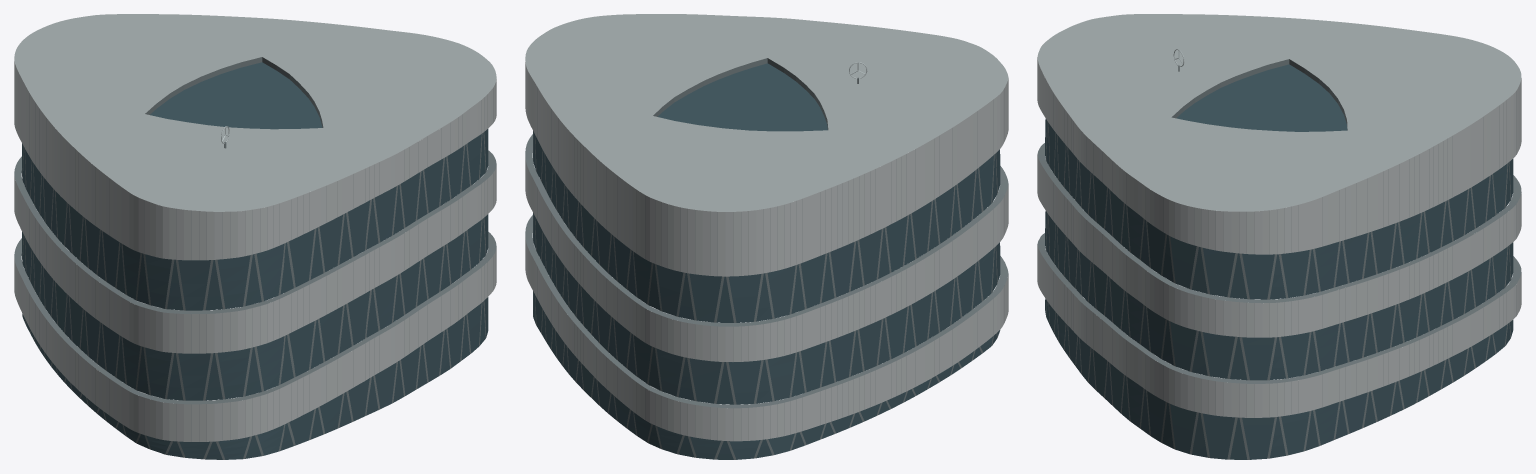
File: mercedes-benz-museum-near.glb
3 renders of one model, left to right at view 1: azimuth 30°, elevation 25°; view 2: azimuth 150°, elevation 25°; view 3: azimuth 270°, elevation 25°, orthographic.
Parts seen in each view (by area): view 1: mercedes-benz-museum-0-roof, mercedes-benz-museum-0-aluminium, mercedes-benz-museum-0-glow, mercedes-benz-museum-0-frame, mercedes-benz-museum-0-joint; view 2: mercedes-benz-museum-0-aluminium, mercedes-benz-museum-0-roof, mercedes-benz-museum-0-glow, mercedes-benz-museum-0-frame, mercedes-benz-museum-0-joint; view 3: mercedes-benz-museum-0-glow, mercedes-benz-museum-0-roof, mercedes-benz-museum-0-aluminium, mercedes-benz-museum-0-frame, mercedes-benz-museum-0-joint.
Part boxes in pixels (left/top/right/bottom): mercedes-benz-museum-0-roof: left=14, top=14, right=496, bottom=211; mercedes-benz-museum-0-aluminium: left=14, top=61, right=496, bottom=441; mercedes-benz-museum-0-glow: left=21, top=62, right=488, bottom=459; mercedes-benz-museum-0-frame: left=14, top=57, right=496, bottom=459; mercedes-benz-museum-0-joint: left=29, top=88, right=493, bottom=441; mercedes-benz-museum-0-aluminium: left=525, top=62, right=1008, bottom=441; mercedes-benz-museum-0-roof: left=525, top=14, right=1008, bottom=211; mercedes-benz-museum-0-glow: left=533, top=63, right=1000, bottom=459; mercedes-benz-museum-0-frame: left=525, top=58, right=1008, bottom=459; mercedes-benz-museum-0-joint: left=537, top=86, right=1004, bottom=440; mercedes-benz-museum-0-glow: left=1045, top=64, right=1513, bottom=459; mercedes-benz-museum-0-roof: left=1037, top=14, right=1521, bottom=211; mercedes-benz-museum-0-aluminium: left=1037, top=57, right=1521, bottom=417; mercedes-benz-museum-0-frame: left=1037, top=59, right=1521, bottom=459; mercedes-benz-museum-0-joint: left=1053, top=91, right=1516, bottom=417.
Bounding box in the file's own units: 80.01 × 51.58 × 82.75.
